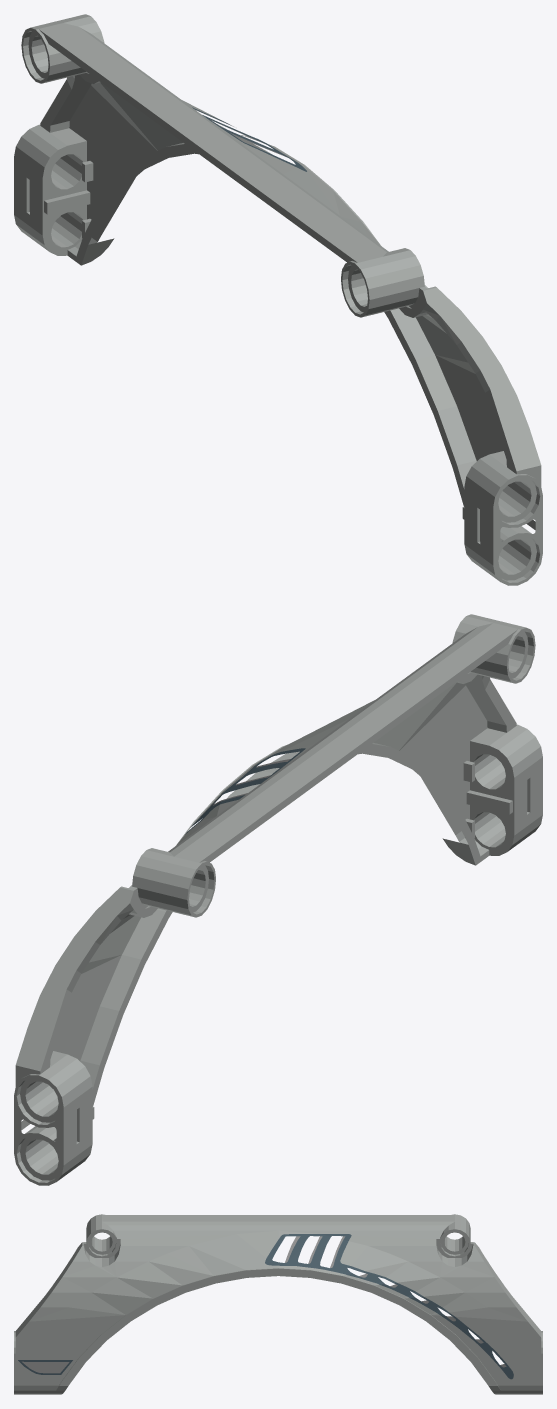
3 renders of one model, top to bottom at view 1: azimuth 30°, elevation 25°; view 2: azimuth 150°, elevation 25°; view 3: azimuth 270°, elevation 25°, orthographic. The views are drawn at different scales.
Visible parts, largest first — view 1: world; view 2: world; view 3: world.
Boxes of the visible parts, left/top/right/bottom form: world: left=14, top=14, right=542, bottom=585; world: left=14, top=614, right=542, bottom=1185; world: left=14, top=1214, right=542, bottom=1394.
Size of the model in its own units: 0.0158 by 0.0392 by 0.12.
